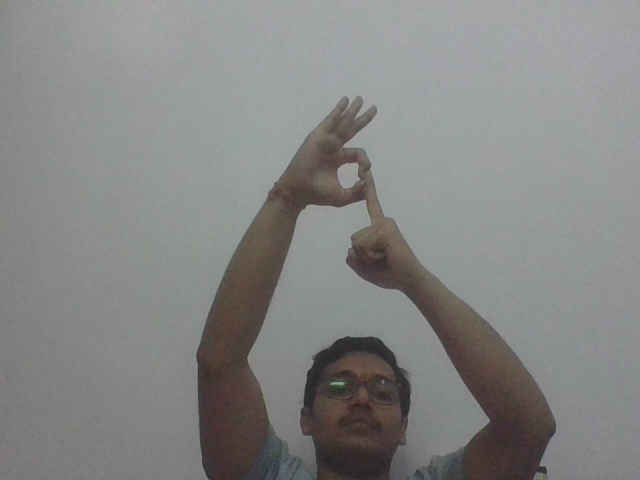P: (298, 93, 415, 286)
